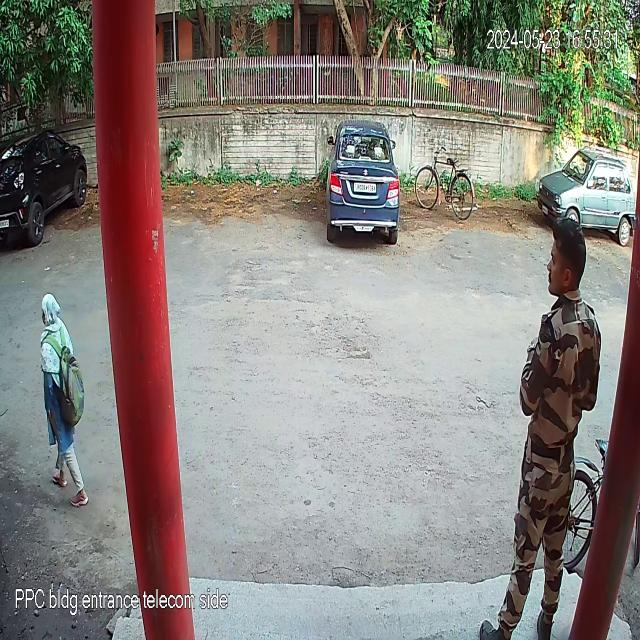Boots: (473, 605, 518, 640), (534, 591, 561, 639)
NO-Boots: (65, 486, 94, 516), (51, 466, 71, 495)
NO-Hardhat: (537, 200, 599, 326), (32, 281, 68, 351)
Person: (481, 215, 603, 639), (40, 293, 90, 508)
